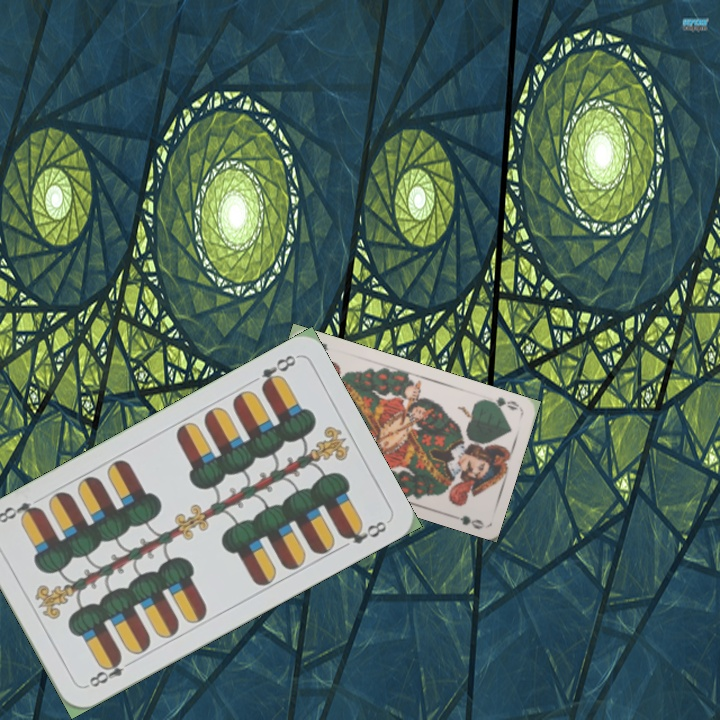E8: (81, 652, 136, 690), (257, 351, 299, 392)
GO: (482, 393, 522, 413)
